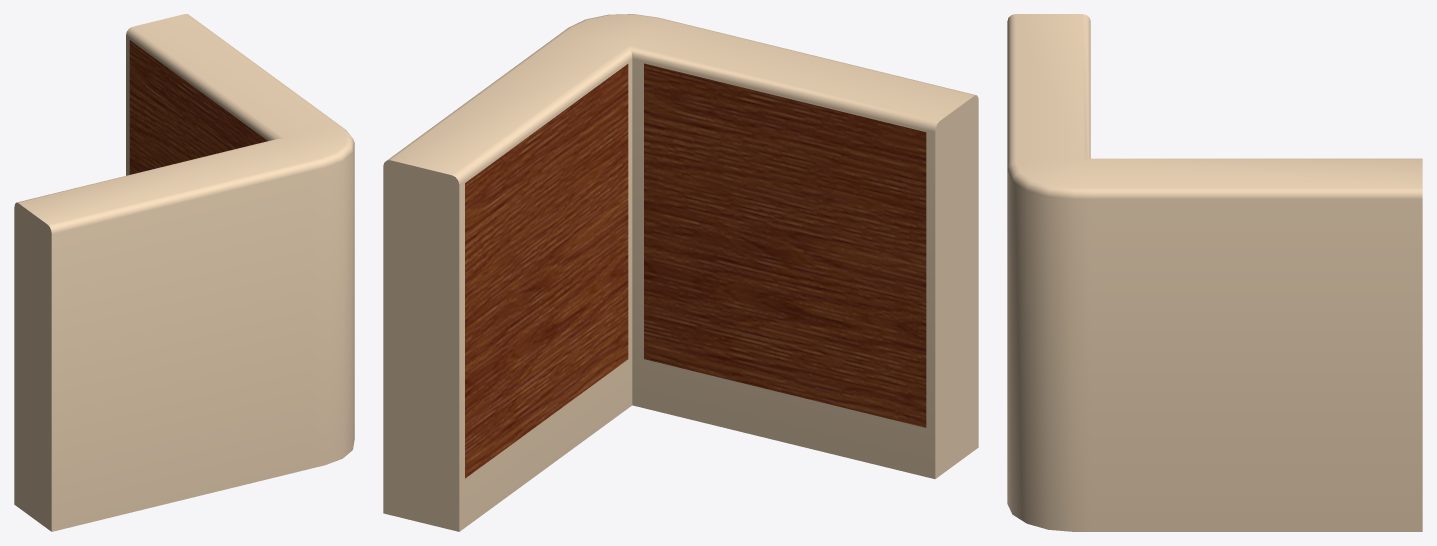
File: Wall_Corner_I_1.glb
3 renders of one model, left to right at view 1: azimuth 30°, elevation 25°; view 2: azimuth 150°, elevation 25°; view 3: azimuth 270°, elevation 25°, orthographic. The views are drawn at different scales.
Parts seen in each view (by area): view 1: Cube.004, Plane.003; view 2: Cube.004, Plane.011, Plane.003; view 3: Cube.004.
Boxes of the visible parts, left/top/right/bottom form: Cube.004: left=14, top=14, right=354, bottom=531; Plane.003: left=129, top=40, right=267, bottom=174; Cube.004: left=383, top=14, right=978, bottom=531; Plane.011: left=644, top=63, right=926, bottom=427; Plane.003: left=465, top=64, right=628, bottom=478; Cube.004: left=1007, top=14, right=1422, bottom=531.
Bounding box in the file's own units: 2.52 × 2.25 × 2.49.
2 materials, 2 textured.
